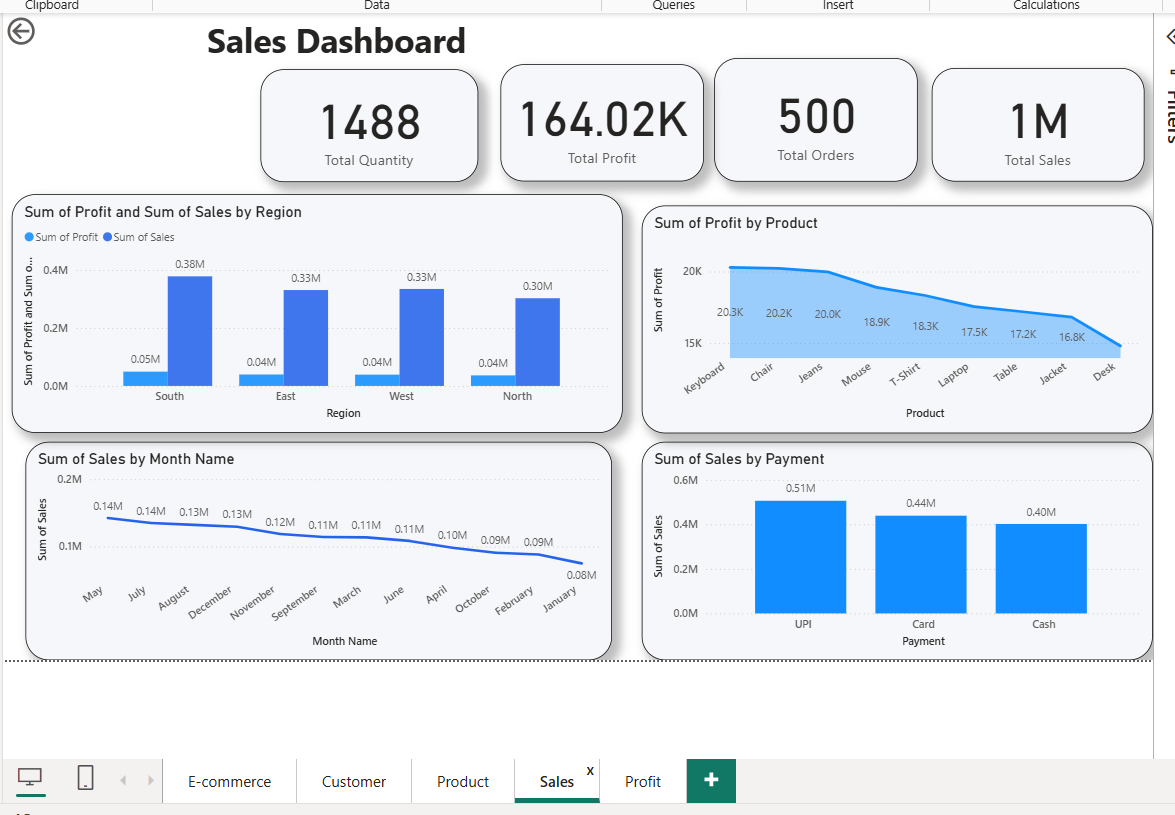

The page's visual inventory and layout, read from the dashboard file:
{"tool":"powerbi","page":{"name":"Sales","canvas":[1280,720],"ordinal":3},"visuals":[{"type":"textbox","box":[47.7,0,380.3,77],"z":0},{"type":"lineChart","fields":{"Category":["Orders.Month Name"],"Y":["Sum(Orders.Sales)"]},"box":[0,468.3,690.9,243.3],"z":1000},{"type":"columnChart","fields":{"Y":["Sum(Orders.Sales)"],"Category":["Orders.Payment"]},"box":[710.5,506.3,569.8,214],"z":2000},{"type":"clusteredColumnChart","fields":{"Y":["Sum(Orders.Profit)","Sum(Orders.Sales)"],"Category":["Orders.Region"]},"box":[0,207.9,679.9,244.6],"z":3000},{"type":"stackedAreaChart","fields":{"Category":["Orders.Product"],"Y":["Sum(Orders.Profit)"]},"box":[442.7,19.6,804.6,173.6],"z":4000},{"type":"actionButton","box":[0,0,47.3,40.3],"z":5000},{"type":"cardVisual","fields":{"Data":["Orders.Total Quantity","Orders.Total Profit","Orders.Total Orders","Orders.Total Sales"]},"box":[690.9,207.9,567.4,280],"z":6000}]}

Visuals, with their boxes on the page's 1280x720 design canvas (x1, y1, x2, y2). These are canvas units, not pixel positions in the 1175x815 screenshot, which may show the page scaled, cropped or inside an application window:
textbox: (left=48, top=0, right=428, bottom=77)
lineChart - Orders.Month Name x Sum(Orders.Sales): (left=0, top=468, right=691, bottom=712)
columnChart - Sum(Orders.Sales) x Orders.Payment: (left=710, top=506, right=1280, bottom=720)
clusteredColumnChart - Sum(Orders.Profit) x Sum(Orders.Sales): (left=0, top=208, right=680, bottom=452)
stackedAreaChart - Orders.Product x Sum(Orders.Profit): (left=443, top=20, right=1247, bottom=193)
actionButton: (left=0, top=0, right=47, bottom=40)
cardVisual - Orders.Total Quantity x Orders.Total Profit: (left=691, top=208, right=1258, bottom=488)
